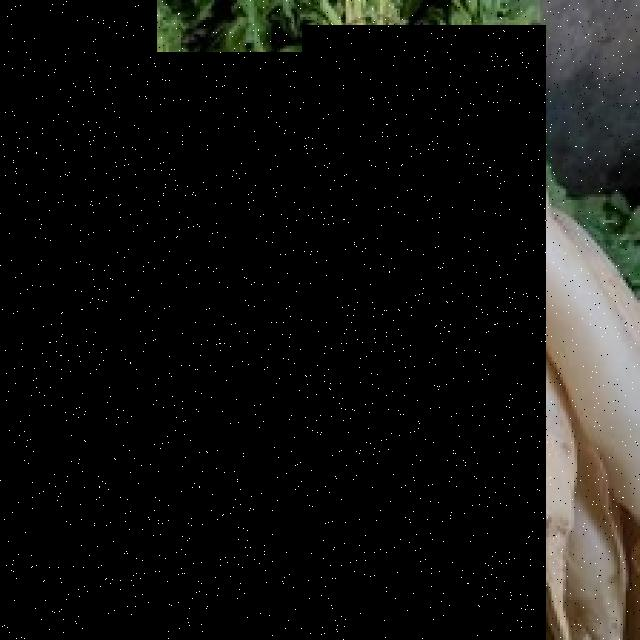Radish: (302, 25, 546, 640), (0, 0, 157, 640), (132, 52, 302, 640)
